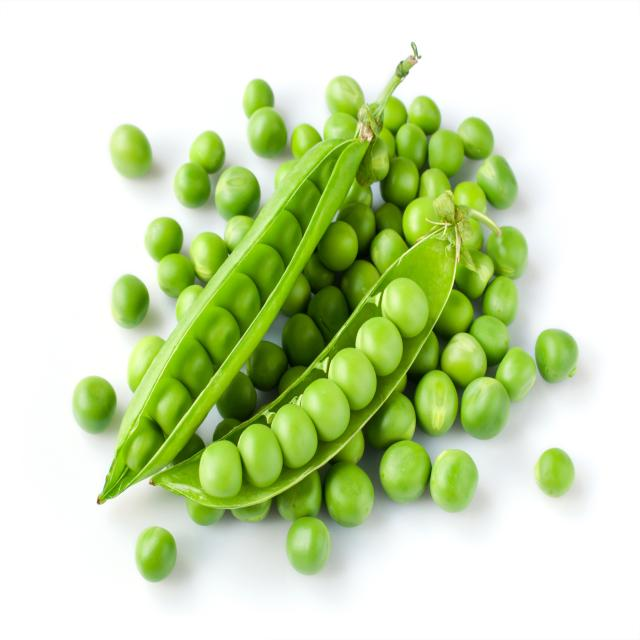Peas: (78, 50, 421, 522), (134, 194, 492, 549), (226, 68, 306, 171), (364, 257, 442, 350), (294, 363, 352, 465), (98, 107, 161, 192), (195, 421, 248, 513), (458, 359, 516, 443), (203, 149, 266, 226), (277, 503, 341, 577), (126, 512, 185, 591), (66, 365, 122, 439), (422, 443, 480, 511), (316, 210, 367, 282), (114, 261, 158, 332)
